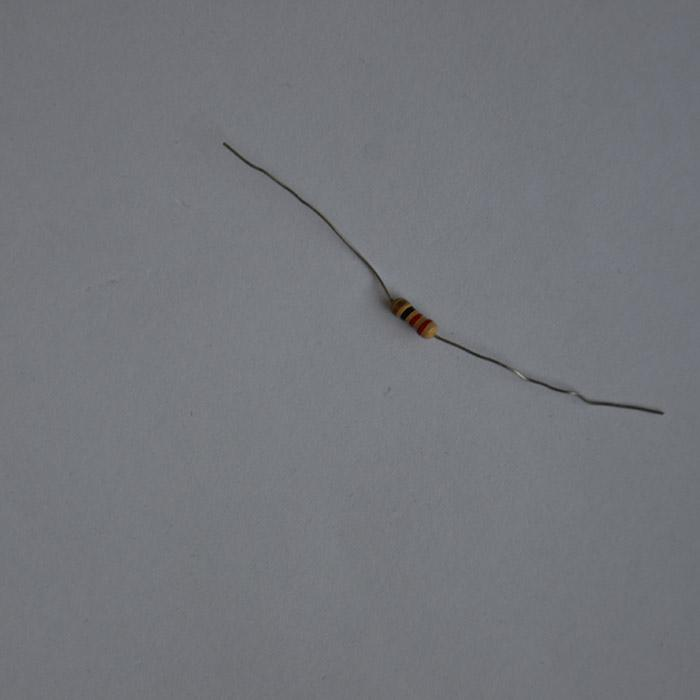resistor: (389, 295, 436, 339)
